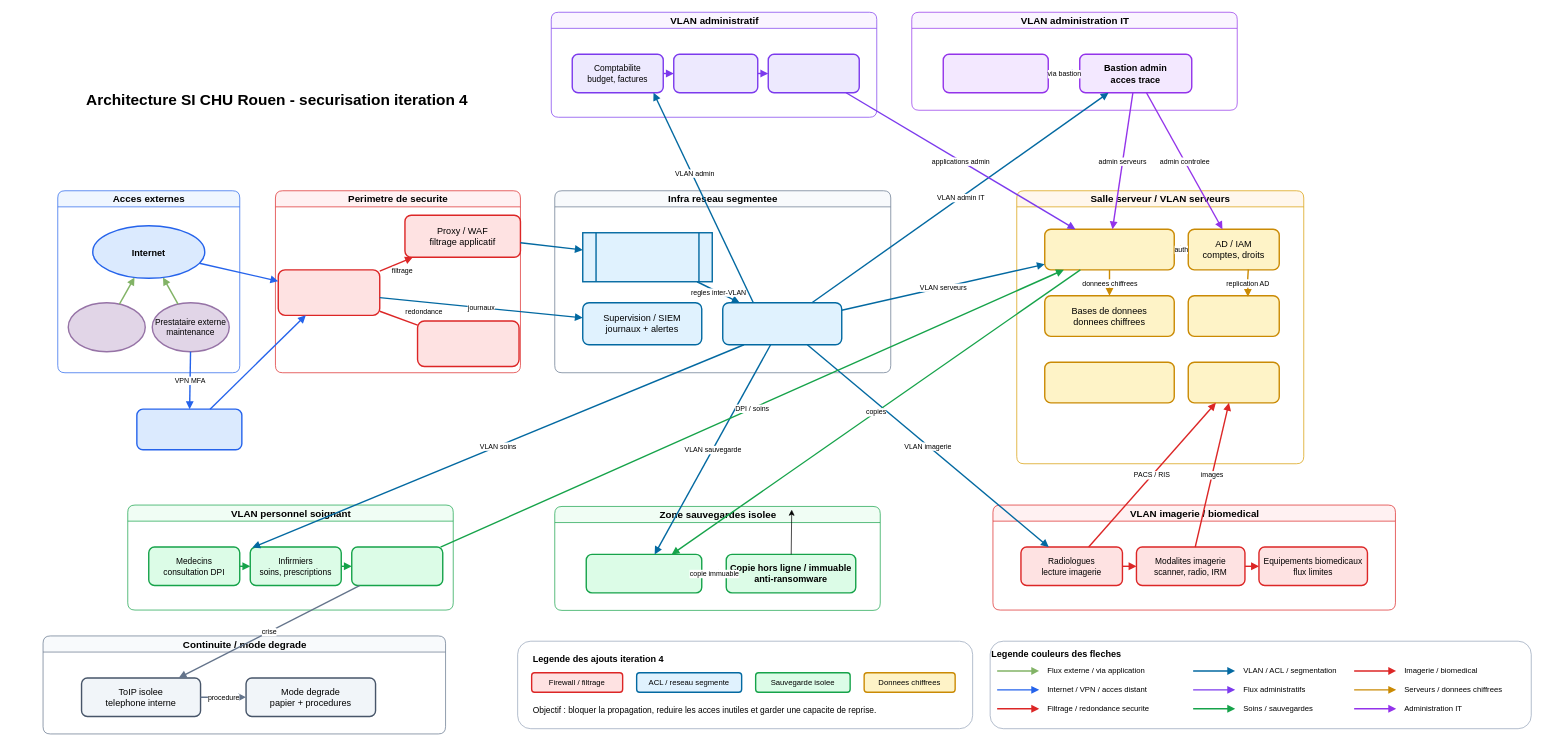
Image size: 1544x746. Some labels were removed from this diagram. The shapes that lost their labels are listed below. From the top down, each one's centre as x and y in pixels, then its label:
point (715, 73): RH paie, agents
point (813, 73): Admissions / accueil identite patient
point (995, 73): Postes DSI dedies
point (647, 257): Switch coeur reseau VLAN / segmentation
point (1109, 249): Serveurs applicatifs DPI, admissions, metiers
point (328, 292): Pare-feu principal filtrage + journaux
point (106, 327): Patient externe portail / rendez-vous
point (782, 323): ACL inter-VLAN moindre acces
point (1233, 316): AD secondaire redondance
point (467, 343): Pare-feu secours redondance
point (1109, 382): Serveur fichiers partages internes
point (1233, 382): PACS / RIS imagerie
point (189, 429): VPN MFA + comptes dedies
point (397, 566): Terminaux mobiles chariots de soins
point (643, 573): Sauvegardes en ligne acces restreint
